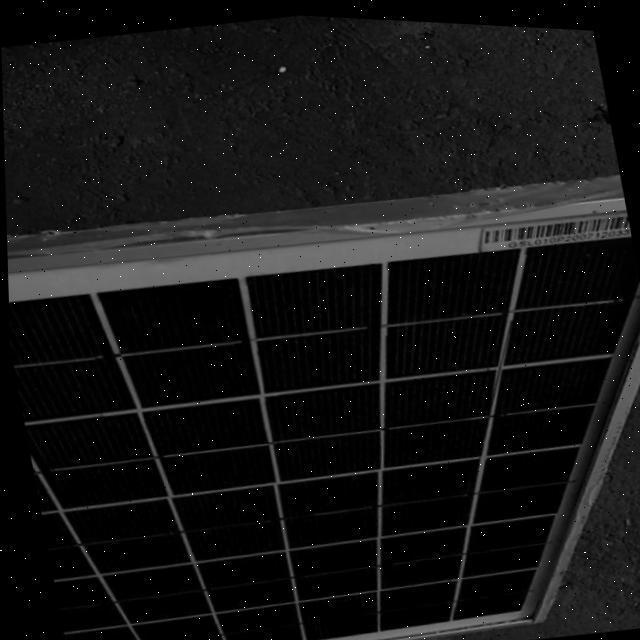Normal Solar Panel: (3, 139, 640, 640)
